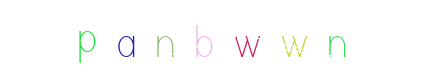A: (120, 0, 200, 80)
B: (169, 0, 249, 80)
N: (142, 0, 222, 80), (254, 0, 334, 80)
P: (86, 0, 166, 80)
W: (182, 0, 262, 80), (207, 0, 287, 80)
